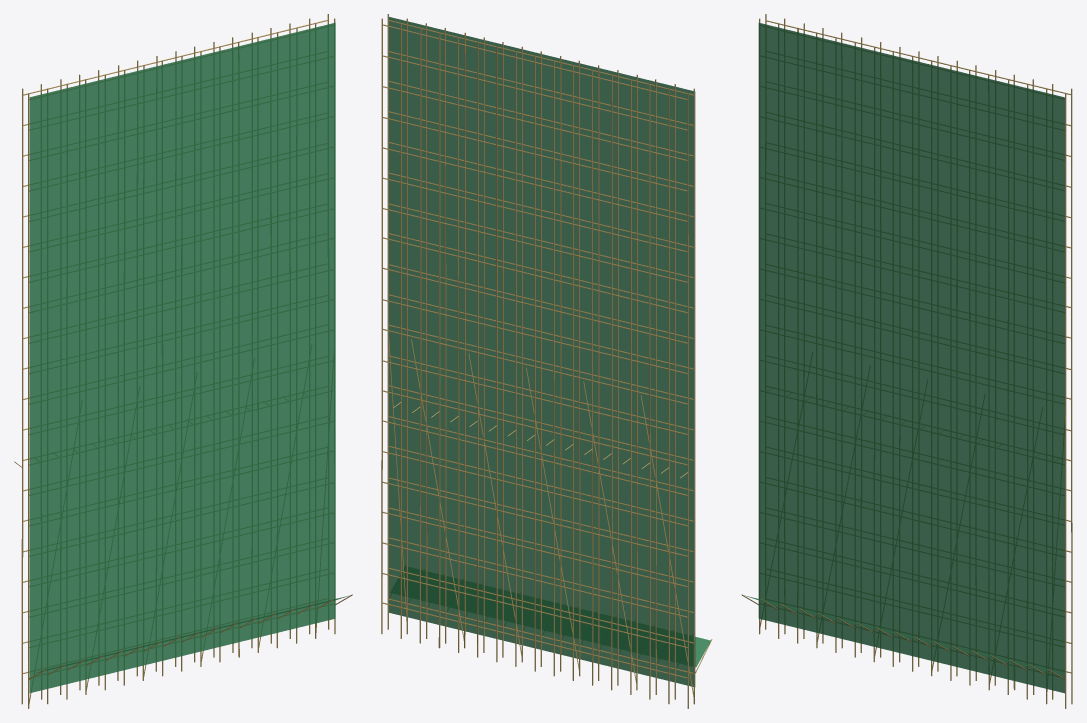
File: hk-mosaic-tower-scaffold.glb
3 views of the same model, side by side, from view 1: azimuth 30°, elevation 25°; view 2: azimuth 150°, elevation 25°; view 3: azimuth 330°, elevation 25° (orthographic).
Visible parts, largest first — view 1: Scaffold_net, Scaffold_bamboo; view 2: Scaffold_net, Scaffold_bamboo; view 3: Scaffold_net, Scaffold_bamboo.
Part boxes in pixels (x1,y1,x2,y2): Scaffold_net: (29,22,349,692); Scaffold_bamboo: (14,14,352,708); Scaffold_net: (389,17,710,686); Scaffold_bamboo: (381,14,712,708); Scaffold_net: (744,23,1064,693); Scaffold_bamboo: (741,14,1072,708).
Bounding box in the file's own units: 20.08 × 38.4 × 3.62.
